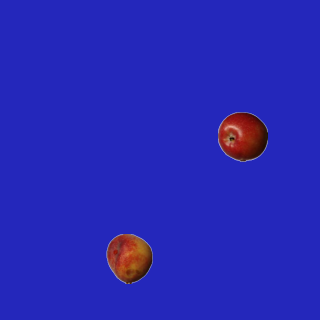Apple Braeburn: (217, 111, 267, 161)
Peach: (104, 233, 154, 283)
